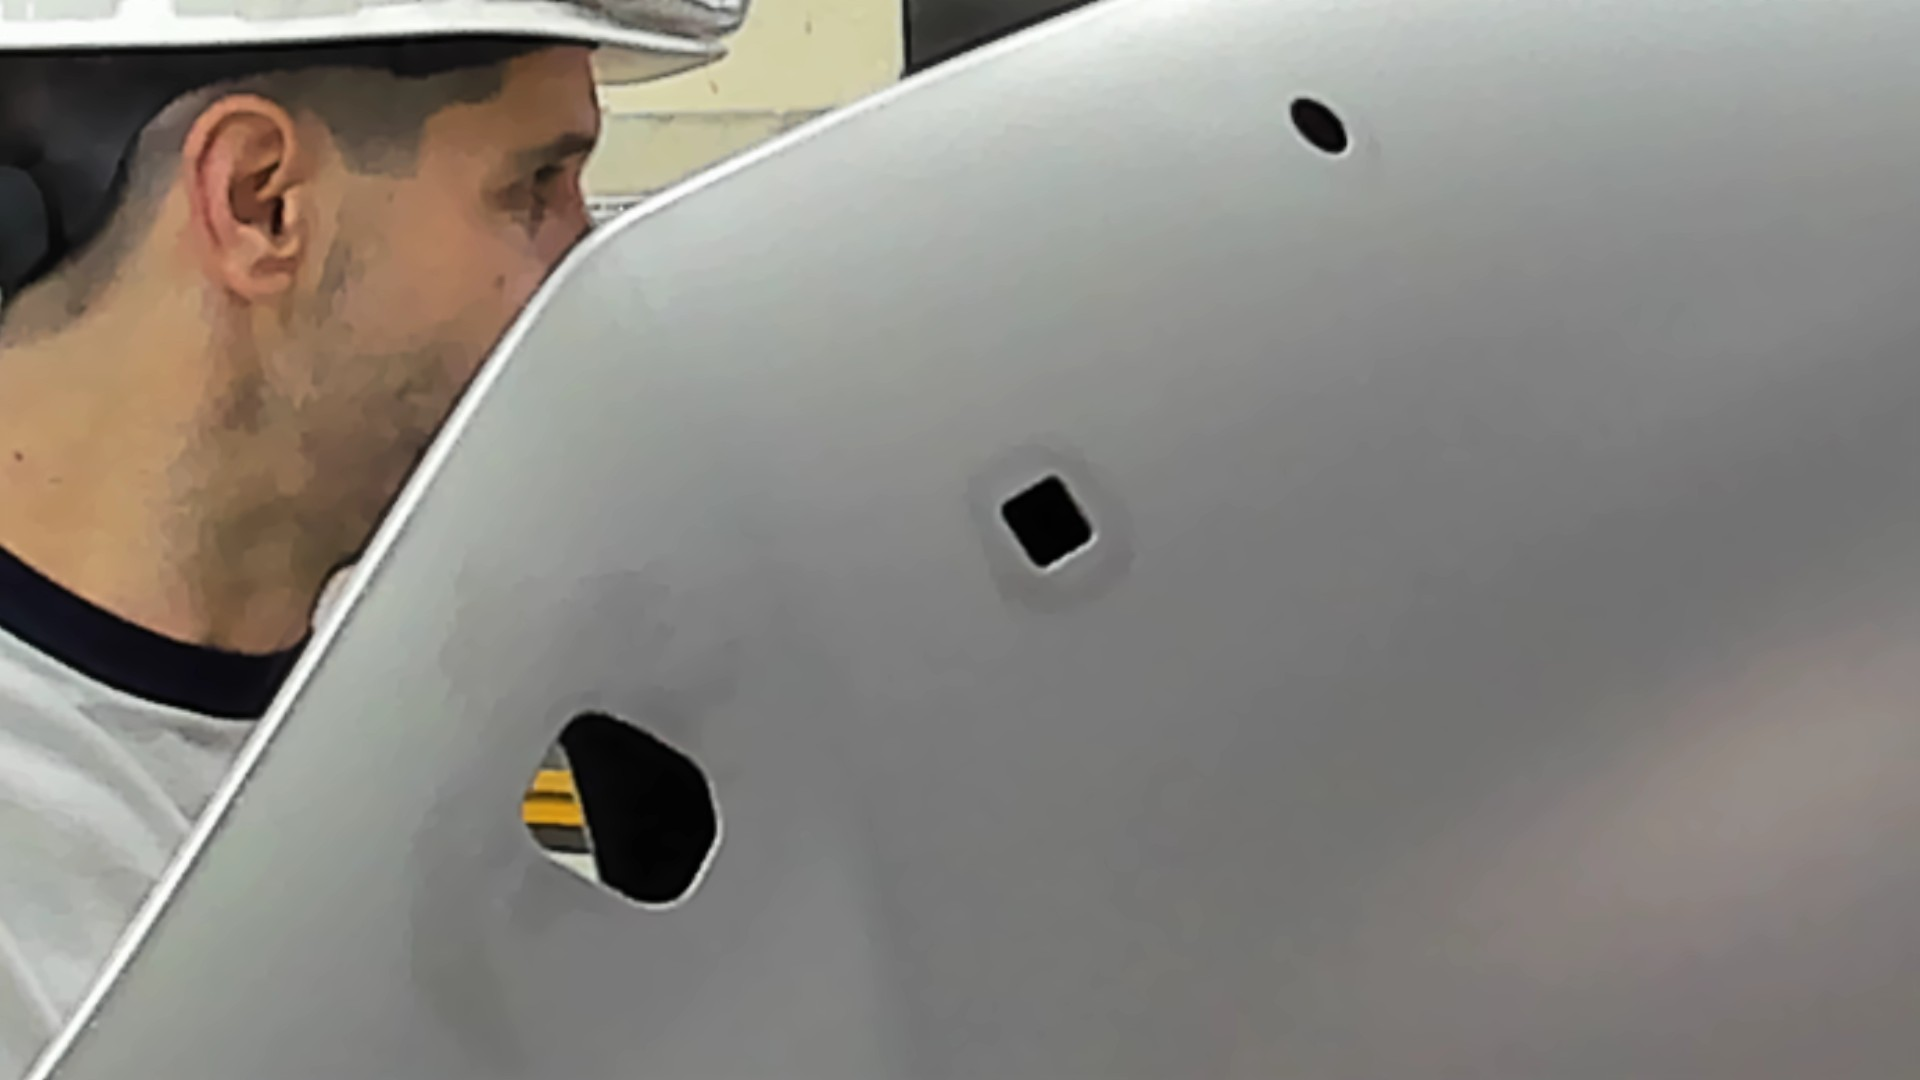chico: (1284, 92, 1354, 164)
grande: (513, 705, 728, 916)
mediano: (992, 464, 1102, 578)
